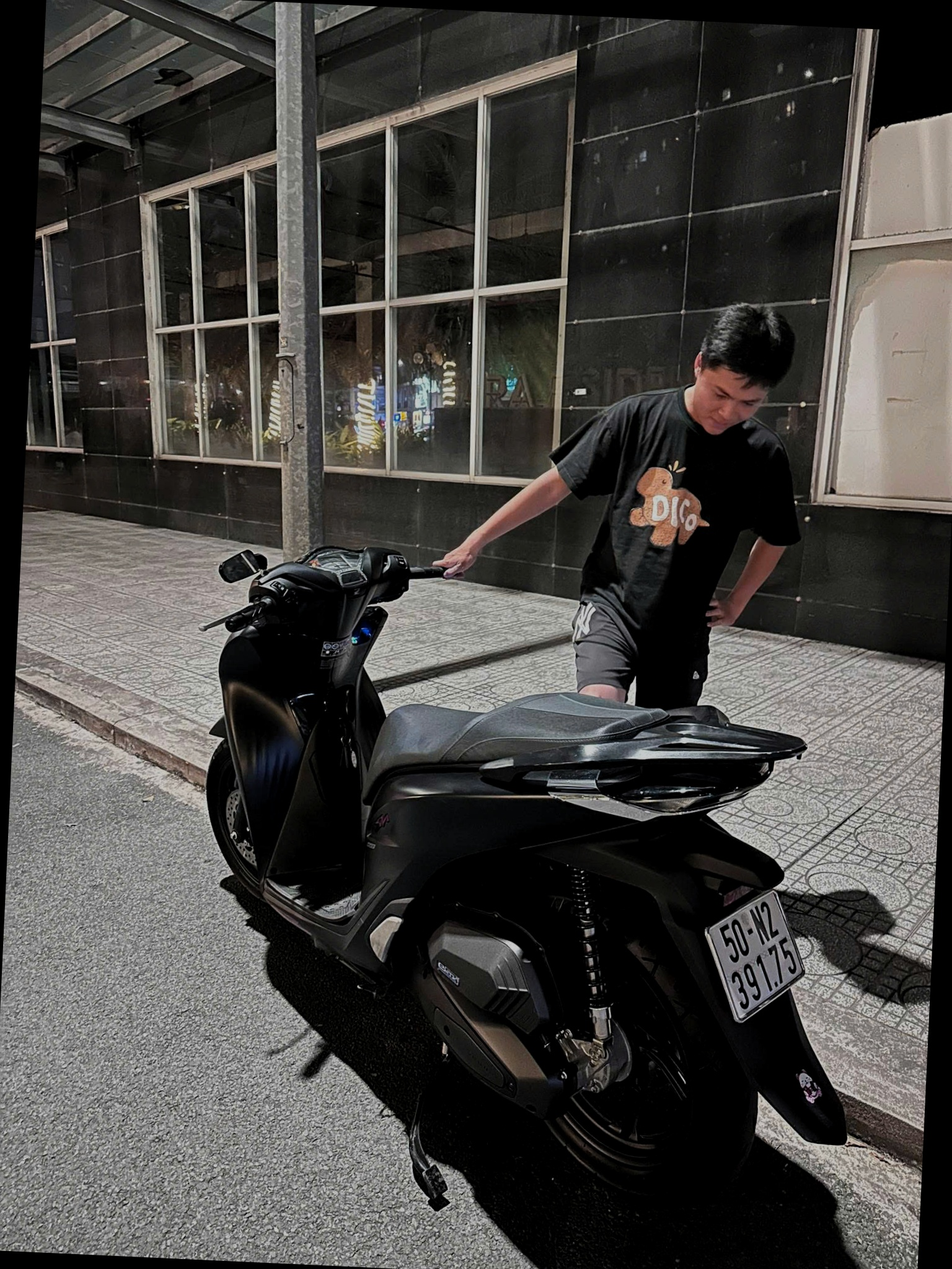Bien-so: (723, 874, 826, 1008)
